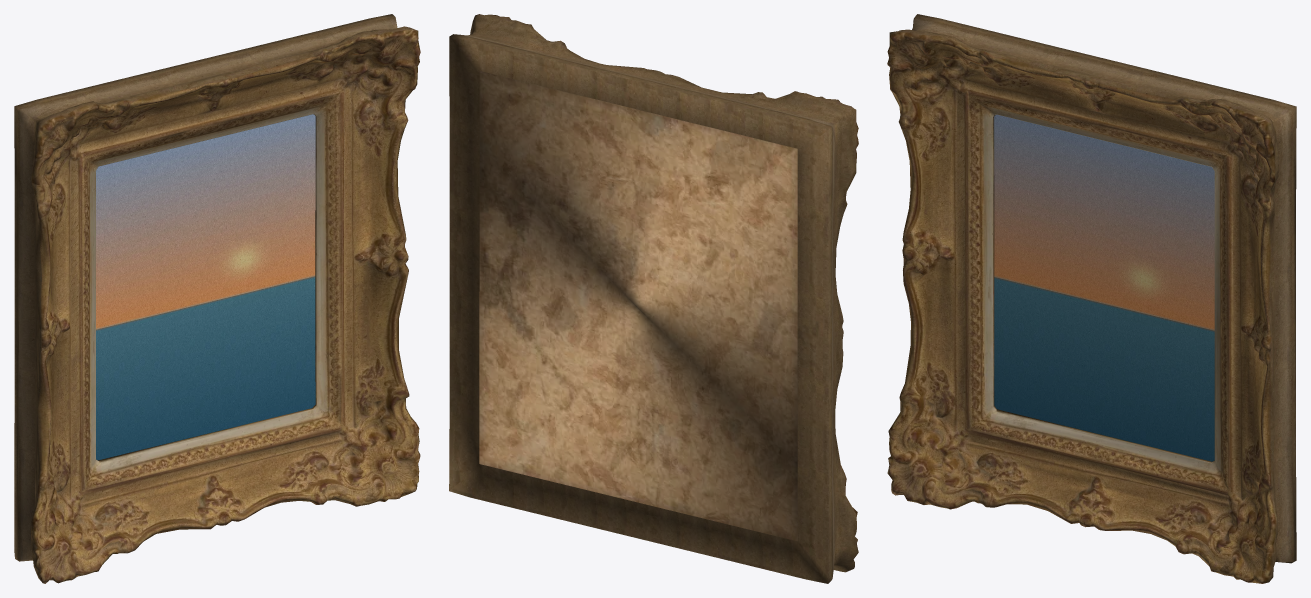
The model's file is marco_dorado.glb.
3 renders of one model, left to right at view 1: azimuth 30°, elevation 25°; view 2: azimuth 150°, elevation 25°; view 3: azimuth 330°, elevation 25°, orthographic.
Visible parts, largest first — view 1: marco_dorado; view 2: marco_dorado; view 3: marco_dorado.
Boxes of the visible parts, x1,y1,x2,y2 form: marco_dorado: (14,14,420,583); marco_dorado: (449,14,858,583); marco_dorado: (887,14,1296,583).
Bounding box in the file's own units: 0.6608 × 0.7706 × 0.0881.
Materials: 2 (2 with a texture image).
